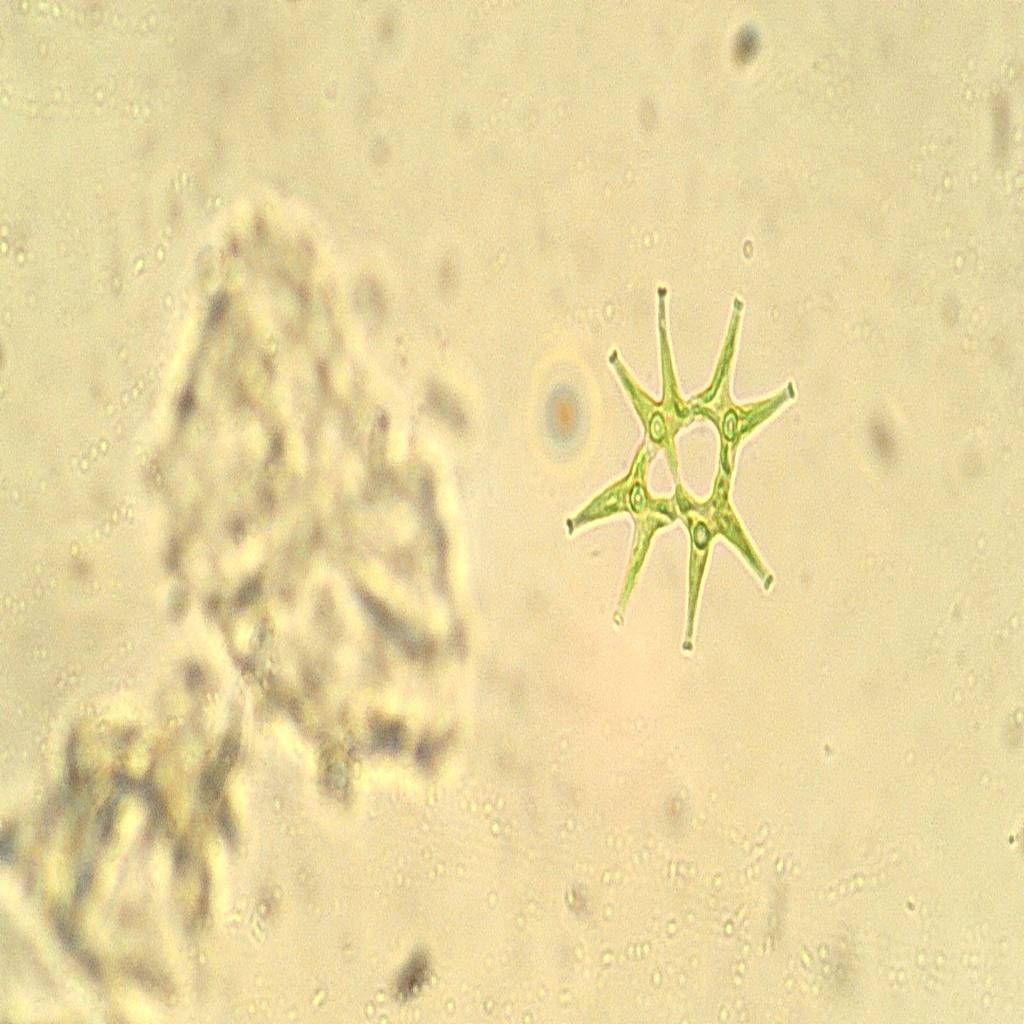Pediastrum_75FO: (561, 273, 807, 672)
